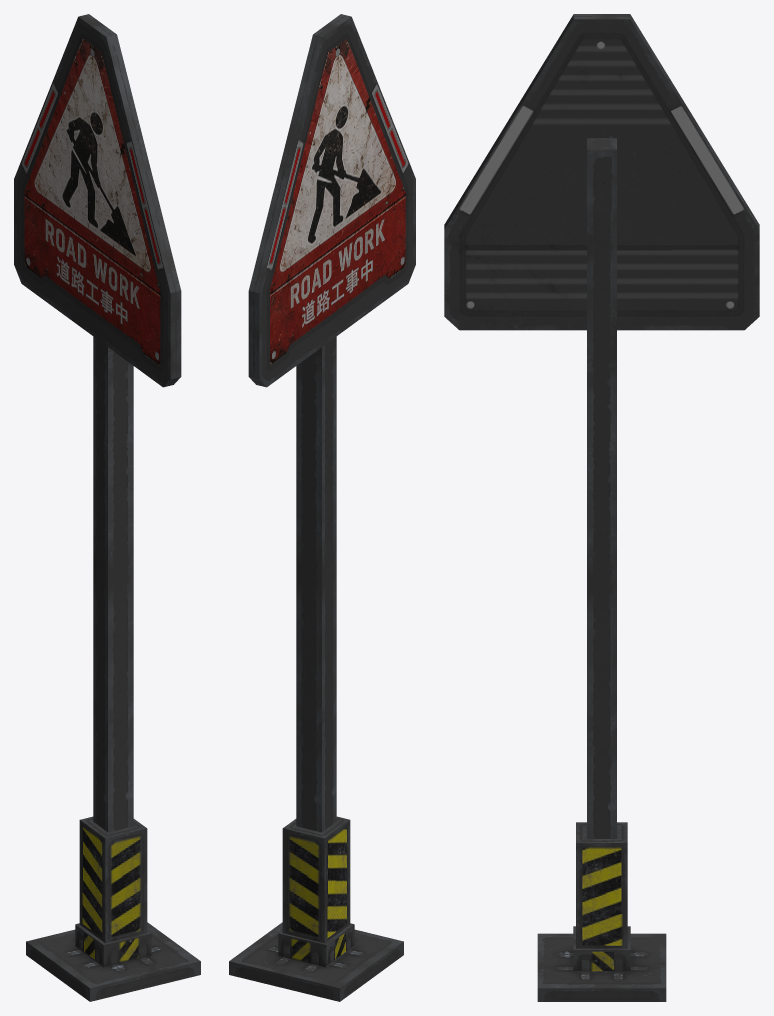
Rendered from CP_Road_Sign_Road_Work.fbx.
3 renders of one model, left to right at view 1: azimuth 30°, elevation 25°; view 2: azimuth 150°, elevation 25°; view 3: azimuth 270°, elevation 25°, orthographic.
Parts seen in each view (by area): view 1: CP_Road_Sign_Road_Work; view 2: CP_Road_Sign_Road_Work; view 3: CP_Road_Sign_Road_Work.
Boxes of the visible parts, bbox=[...] form: CP_Road_Sign_Road_Work: bbox=[14, 14, 200, 1001]; CP_Road_Sign_Road_Work: bbox=[229, 14, 415, 1001]; CP_Road_Sign_Road_Work: bbox=[444, 14, 759, 1001].
Bounding box in the file's own units: 34.27 × 279 × 83.8.
